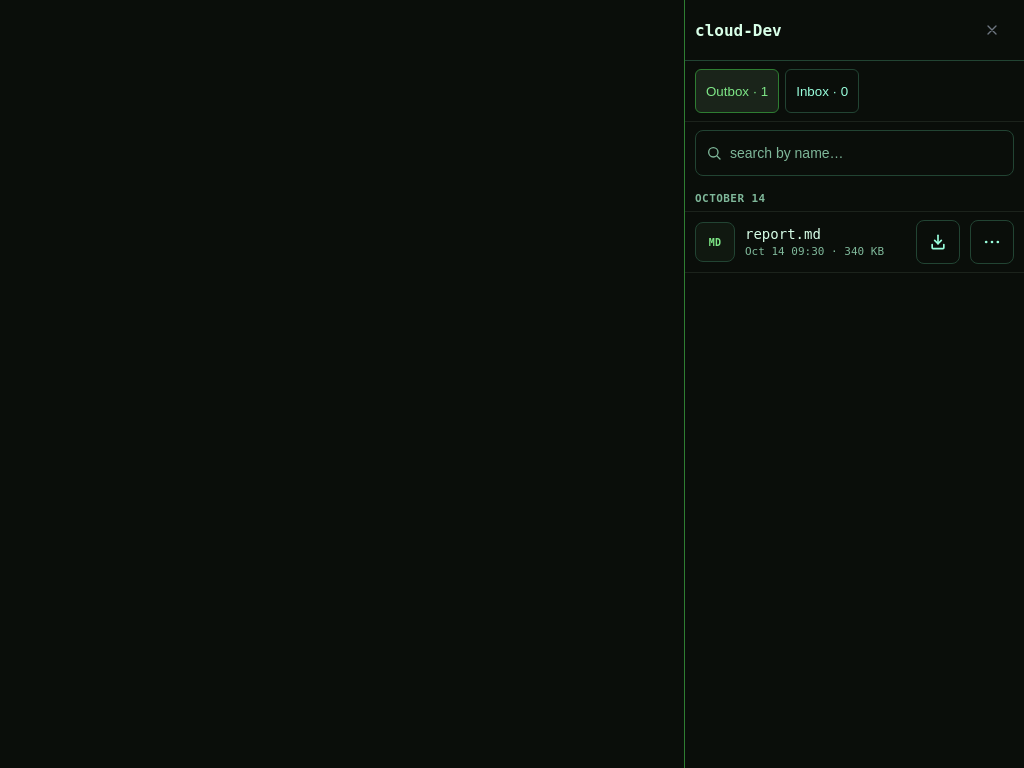
Test: FilesPanel foglio azioni (⋯) › apre il foglio con nome visualizzato, nome ORIGINALE completo in mono e meta
Expected: the text "report.md" is shown, [745,226,821,242]
Click the button titled "file actions" at (992, 242), box [970,220,1014,264]
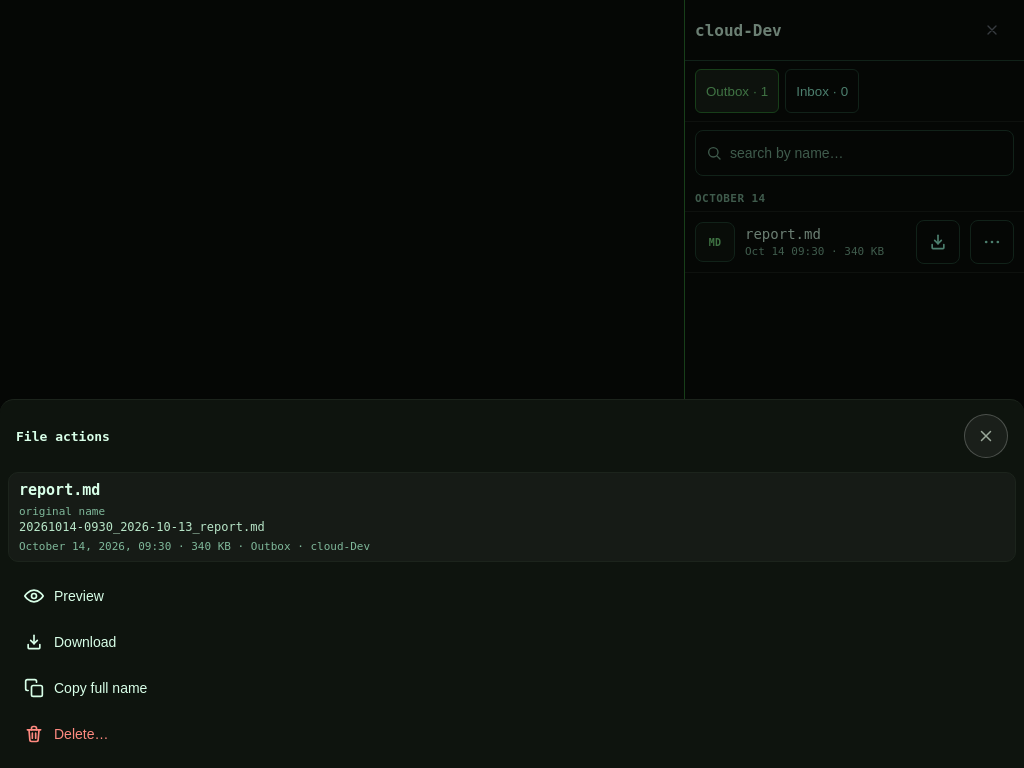
Expected: the element with test id "file-actions-sheet" is shown
Expected: the text with class "nc-filesheet-nome" reads "report.md", [19,481,100,499]
Expected: the text with class "nc-filesheet-mono" reads "20261014-0930_2026-10-13_report.md", [19,520,265,534]
